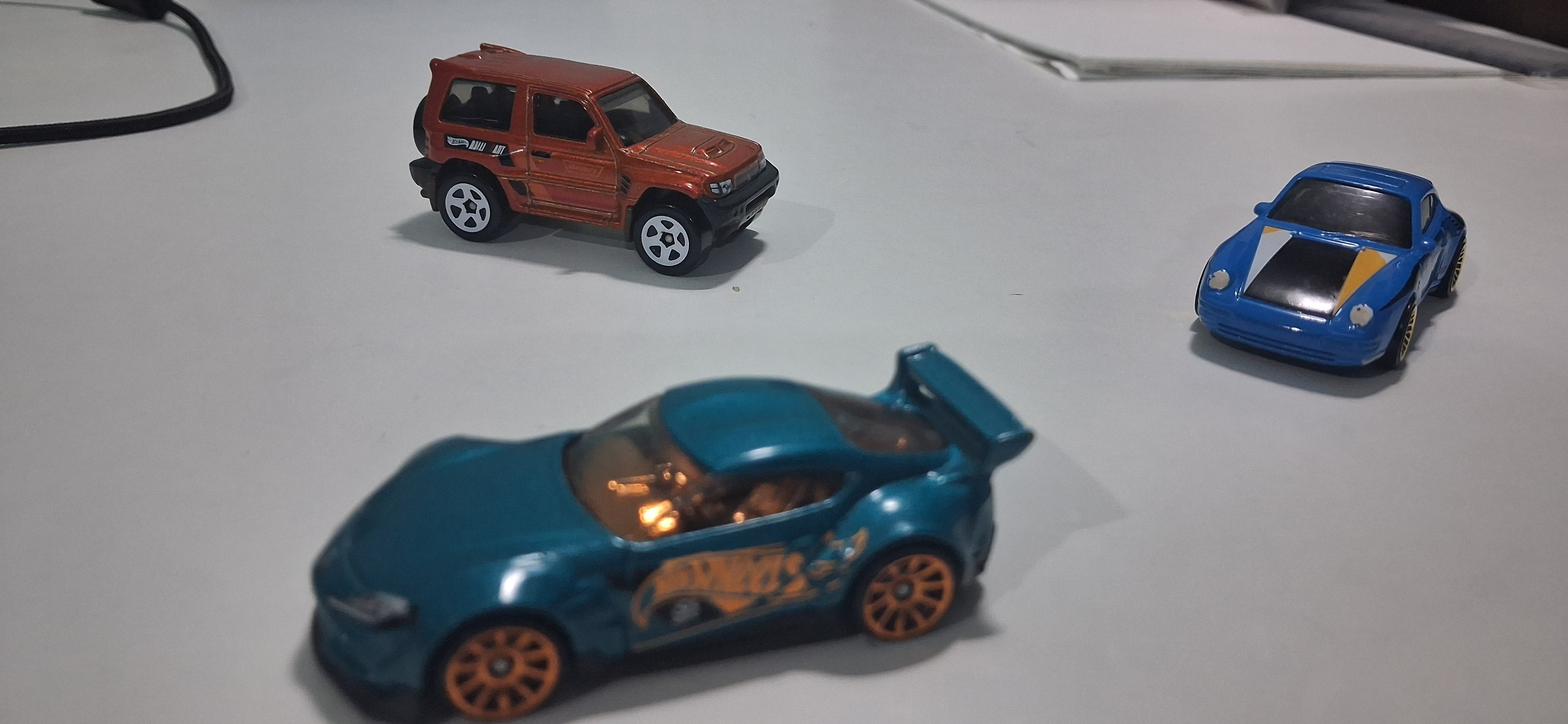Mitsubishi_Pajero_Evolution: (382, 0, 823, 296)
Porsche_Carrera: (1154, 111, 1504, 426)
Toyota_GR_Supra: (260, 318, 1053, 718)
